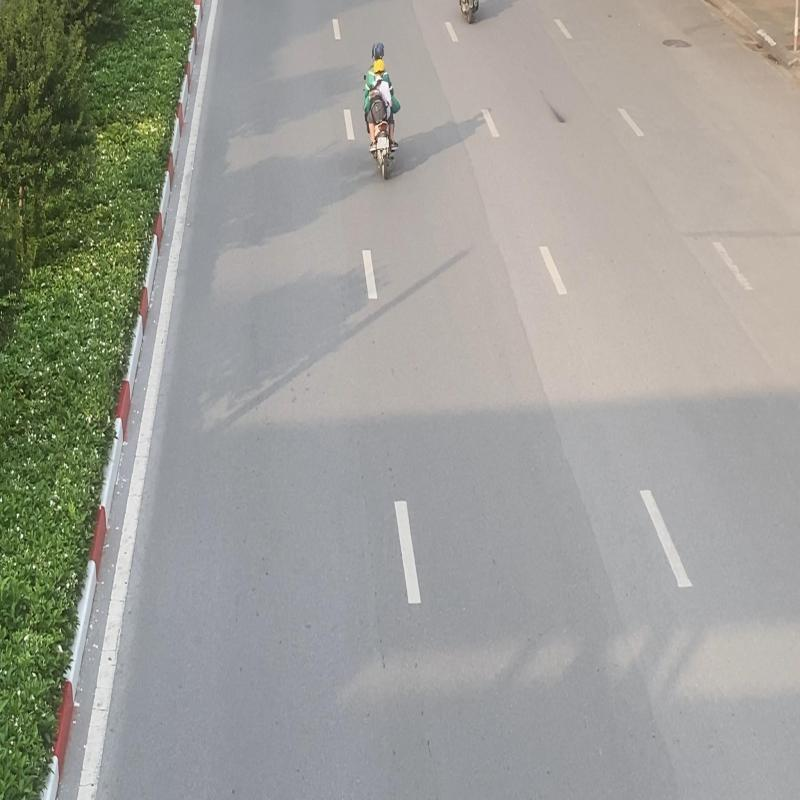helmet: (374, 41, 385, 62), (375, 60, 386, 78)
licenseplate: (376, 136, 388, 150)
motorcyclist: (360, 40, 403, 182)
